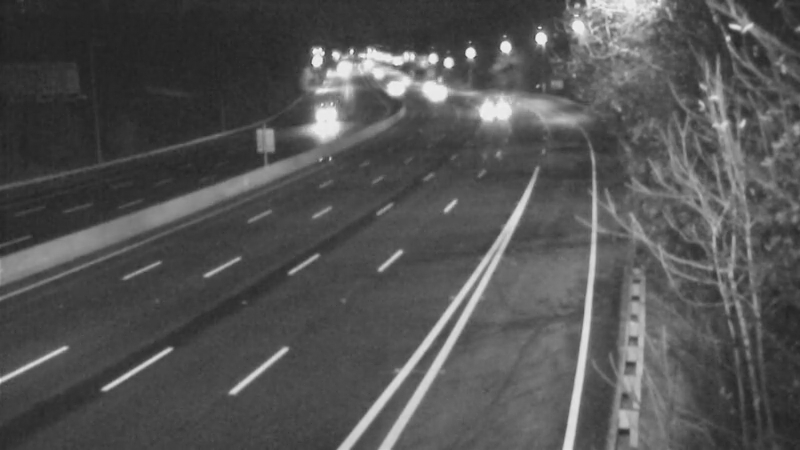vehicle: (398, 60, 448, 110), (369, 64, 419, 114), (413, 70, 463, 120), (474, 84, 524, 134), (295, 95, 345, 145)
